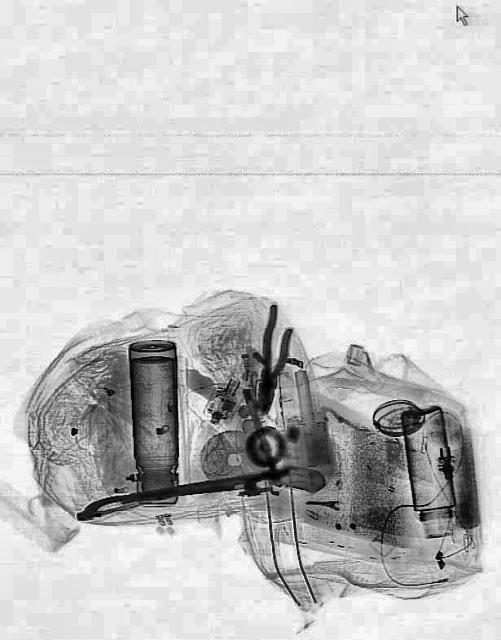Pliers: (249, 303, 297, 417)
